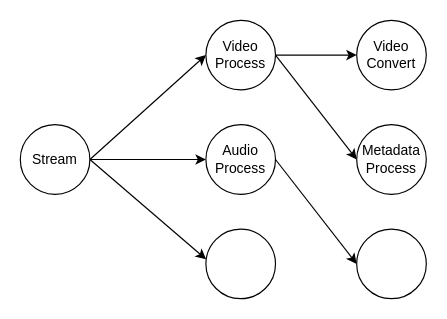
The diagram is 447 pixels wide and 319 high, and some of its shapes have lost their labels. The box of each missing label's shape, as (x1, y1, x2, y2) in pixels:
Amplify: (356, 228, 426, 299)
Text Process: (205, 228, 276, 299)
